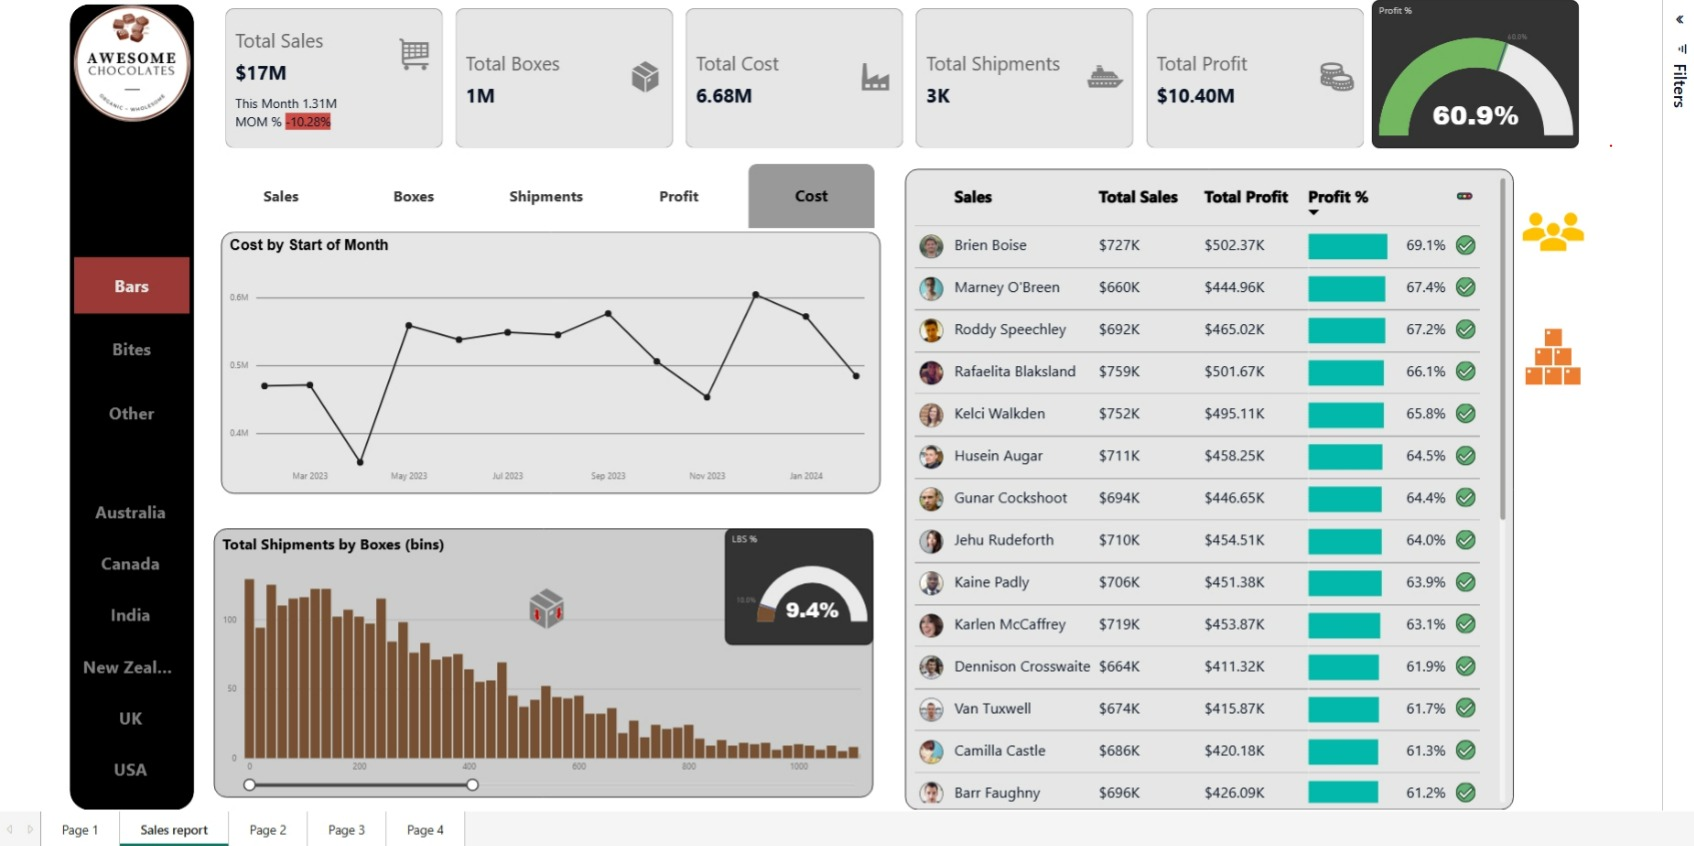

The page's visual inventory and layout, read from the dashboard file:
{"tool":"powerbi","page":{"name":"Sales report","canvas":[1920,1020],"ordinal":1},"visuals":[{"type":"shape","box":[1.8,5.3,156.8,1015.1],"z":0},{"type":"cardVisual","fields":{"Data":["_Measures.Total Sales","_Measures.Total Boxes","_Measures.Total Cost","_Measures.Total Shipments","_Measures.Total Profit"]},"box":[192.1,5.3,1448.6,186.8],"z":2000},{"type":"gauge","fields":{"Y":["_Measures.Profit %"]},"box":[1640.7,0,260.8,186.8],"z":3000},{"type":"lineChart","fields":{"Y":["_Measures.Total Cost"],"Category":["calendar.Start of Month"]},"box":[192.1,292.5,830,329.6],"z":4000},{"type":"advancedSlicerVisual","fields":{"Values":["Measure Selector .Measure Selector "]},"box":[183.3,200.9,840.6,91.6],"z":5000},{"type":"columnChart","fields":{"Category":["shipments.Boxes (bins)"],"Y":["_Measures.Total Shipments"]},"box":[183.3,666.1,830,338.4],"z":6000},{"type":"gauge","fields":{"Y":["_Measures.LBS %"]},"box":[826.5,666.1,186.8,146.3],"z":7000},{"type":"image","box":[555.8,730.7,92.6,72],"z":8000},{"type":"tableEx","title":"People details ","fields":{"Values":["people.Picture","people.Sales person","_Measures.Total Sales","_Measures.Total Profit","_Measures.Profit %","_Measures.Profit Target indicator"]},"box":[1053.8,213.2,766.6,807.1],"z":9000},{"type":"image","title":"People icon ","box":[1820.4,230.9,98.7,121.6],"z":11000},{"type":"image","title":"Product icon ","box":[1818.7,387.7,100.5,121.6],"z":12000},{"type":"advancedSlicerVisual","fields":{"Values":["products.Category"]},"box":[1.8,317.2,156.8,243.2],"z":13000},{"type":"advancedSlicerVisual","fields":{"Values":["locations.Geo"]},"box":[0,609.8,156.8,394.8],"z":14000},{"type":"image","box":[1.8,0,156.8,158.6],"z":14001}]}

Visuals, with their boxes in screenshot pixels (x1, y1, x2, y2):
shape: bbox=(68, 4, 191, 806)
cardVisual - _Measures.Total Sales x _Measures.Total Boxes: bbox=(218, 4, 1362, 152)
gauge - _Measures.Profit %: bbox=(1362, 0, 1568, 148)
lineChart - _Measures.Total Cost x calendar.Start of Month: bbox=(218, 231, 874, 491)
advancedSlicerVisual - Measure Selector .Measure Selector : bbox=(211, 159, 875, 231)
columnChart - shipments.Boxes (bins) x _Measures.Total Shipments: bbox=(211, 526, 867, 793)
gauge - _Measures.LBS %: bbox=(719, 526, 867, 642)
image: bbox=(505, 577, 578, 634)
"People details " tableEx: bbox=(899, 168, 1504, 806)
"People icon " image: bbox=(1504, 182, 1582, 278)
"Product icon " image: bbox=(1503, 306, 1582, 402)
advancedSlicerVisual - products.Category: bbox=(68, 251, 191, 443)
advancedSlicerVisual - locations.Geo: bbox=(66, 482, 190, 794)
image: bbox=(68, 0, 191, 125)
